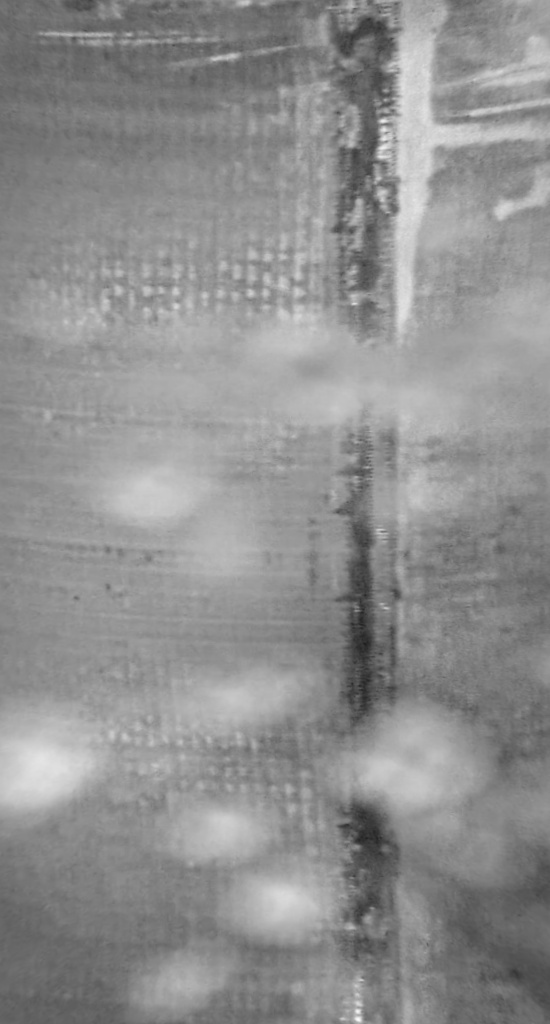splice: (326, 1, 423, 1024)
